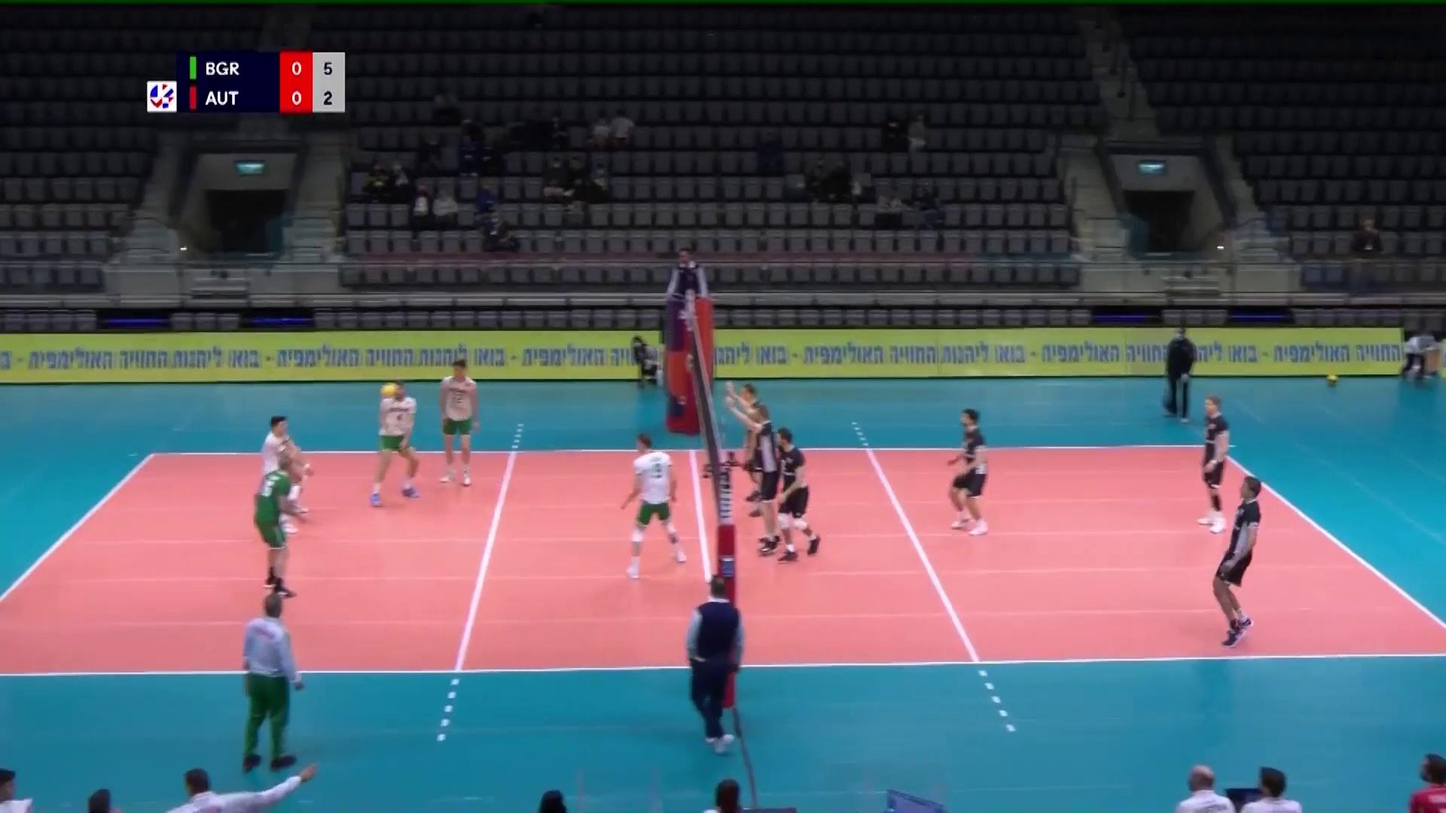ball: (379, 382, 398, 397)
